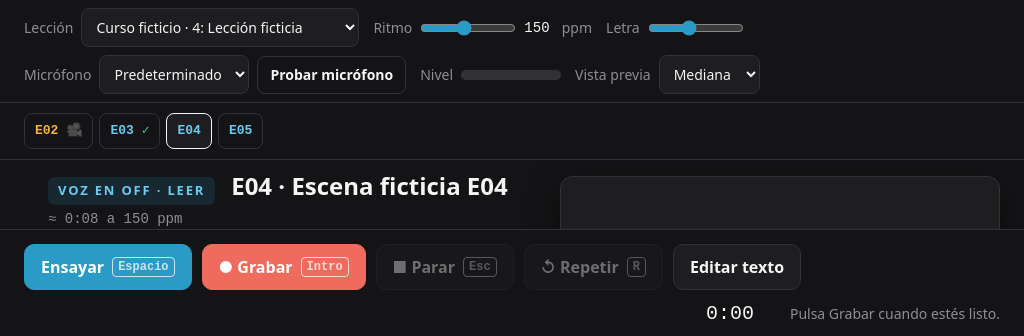
it: Teleprompter › guarda la lección abierta y el ritmo en las preferencias
The width and height of the screenshot is (1024, 336).
Set the slider labelled "Ritmo" to "160" at {"x": 473, "y": 28}, box [420,20,516,36]
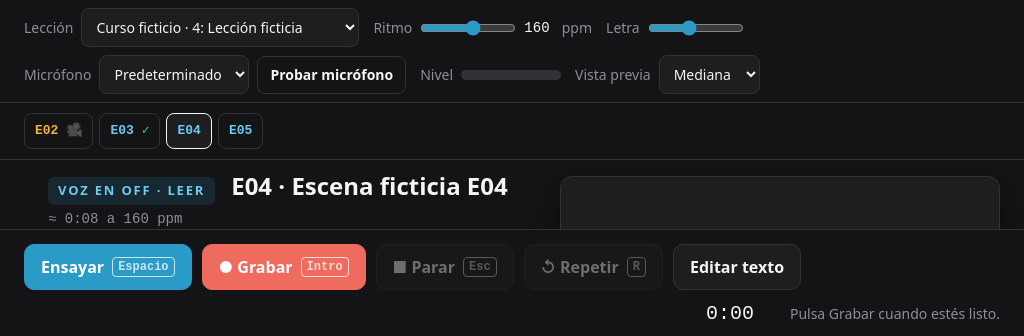
expect the text "≈ 0:08 a 160 ppm" is shown: met, box [48,208,182,228]
